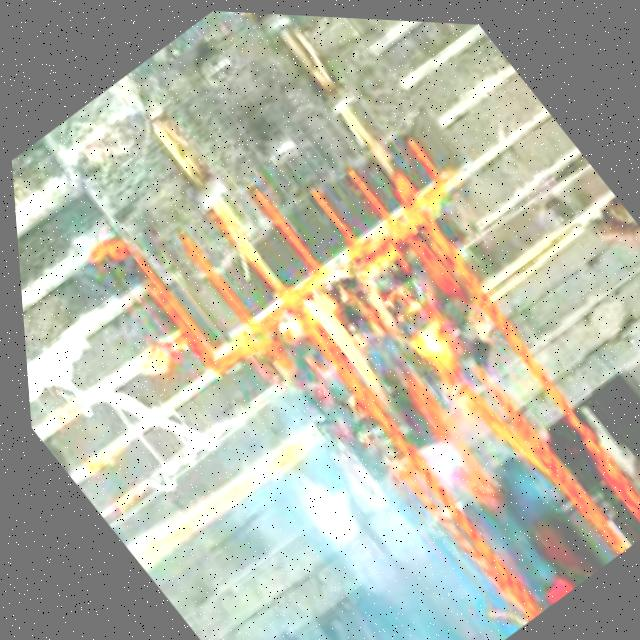Fire: (275, 230, 546, 527)
